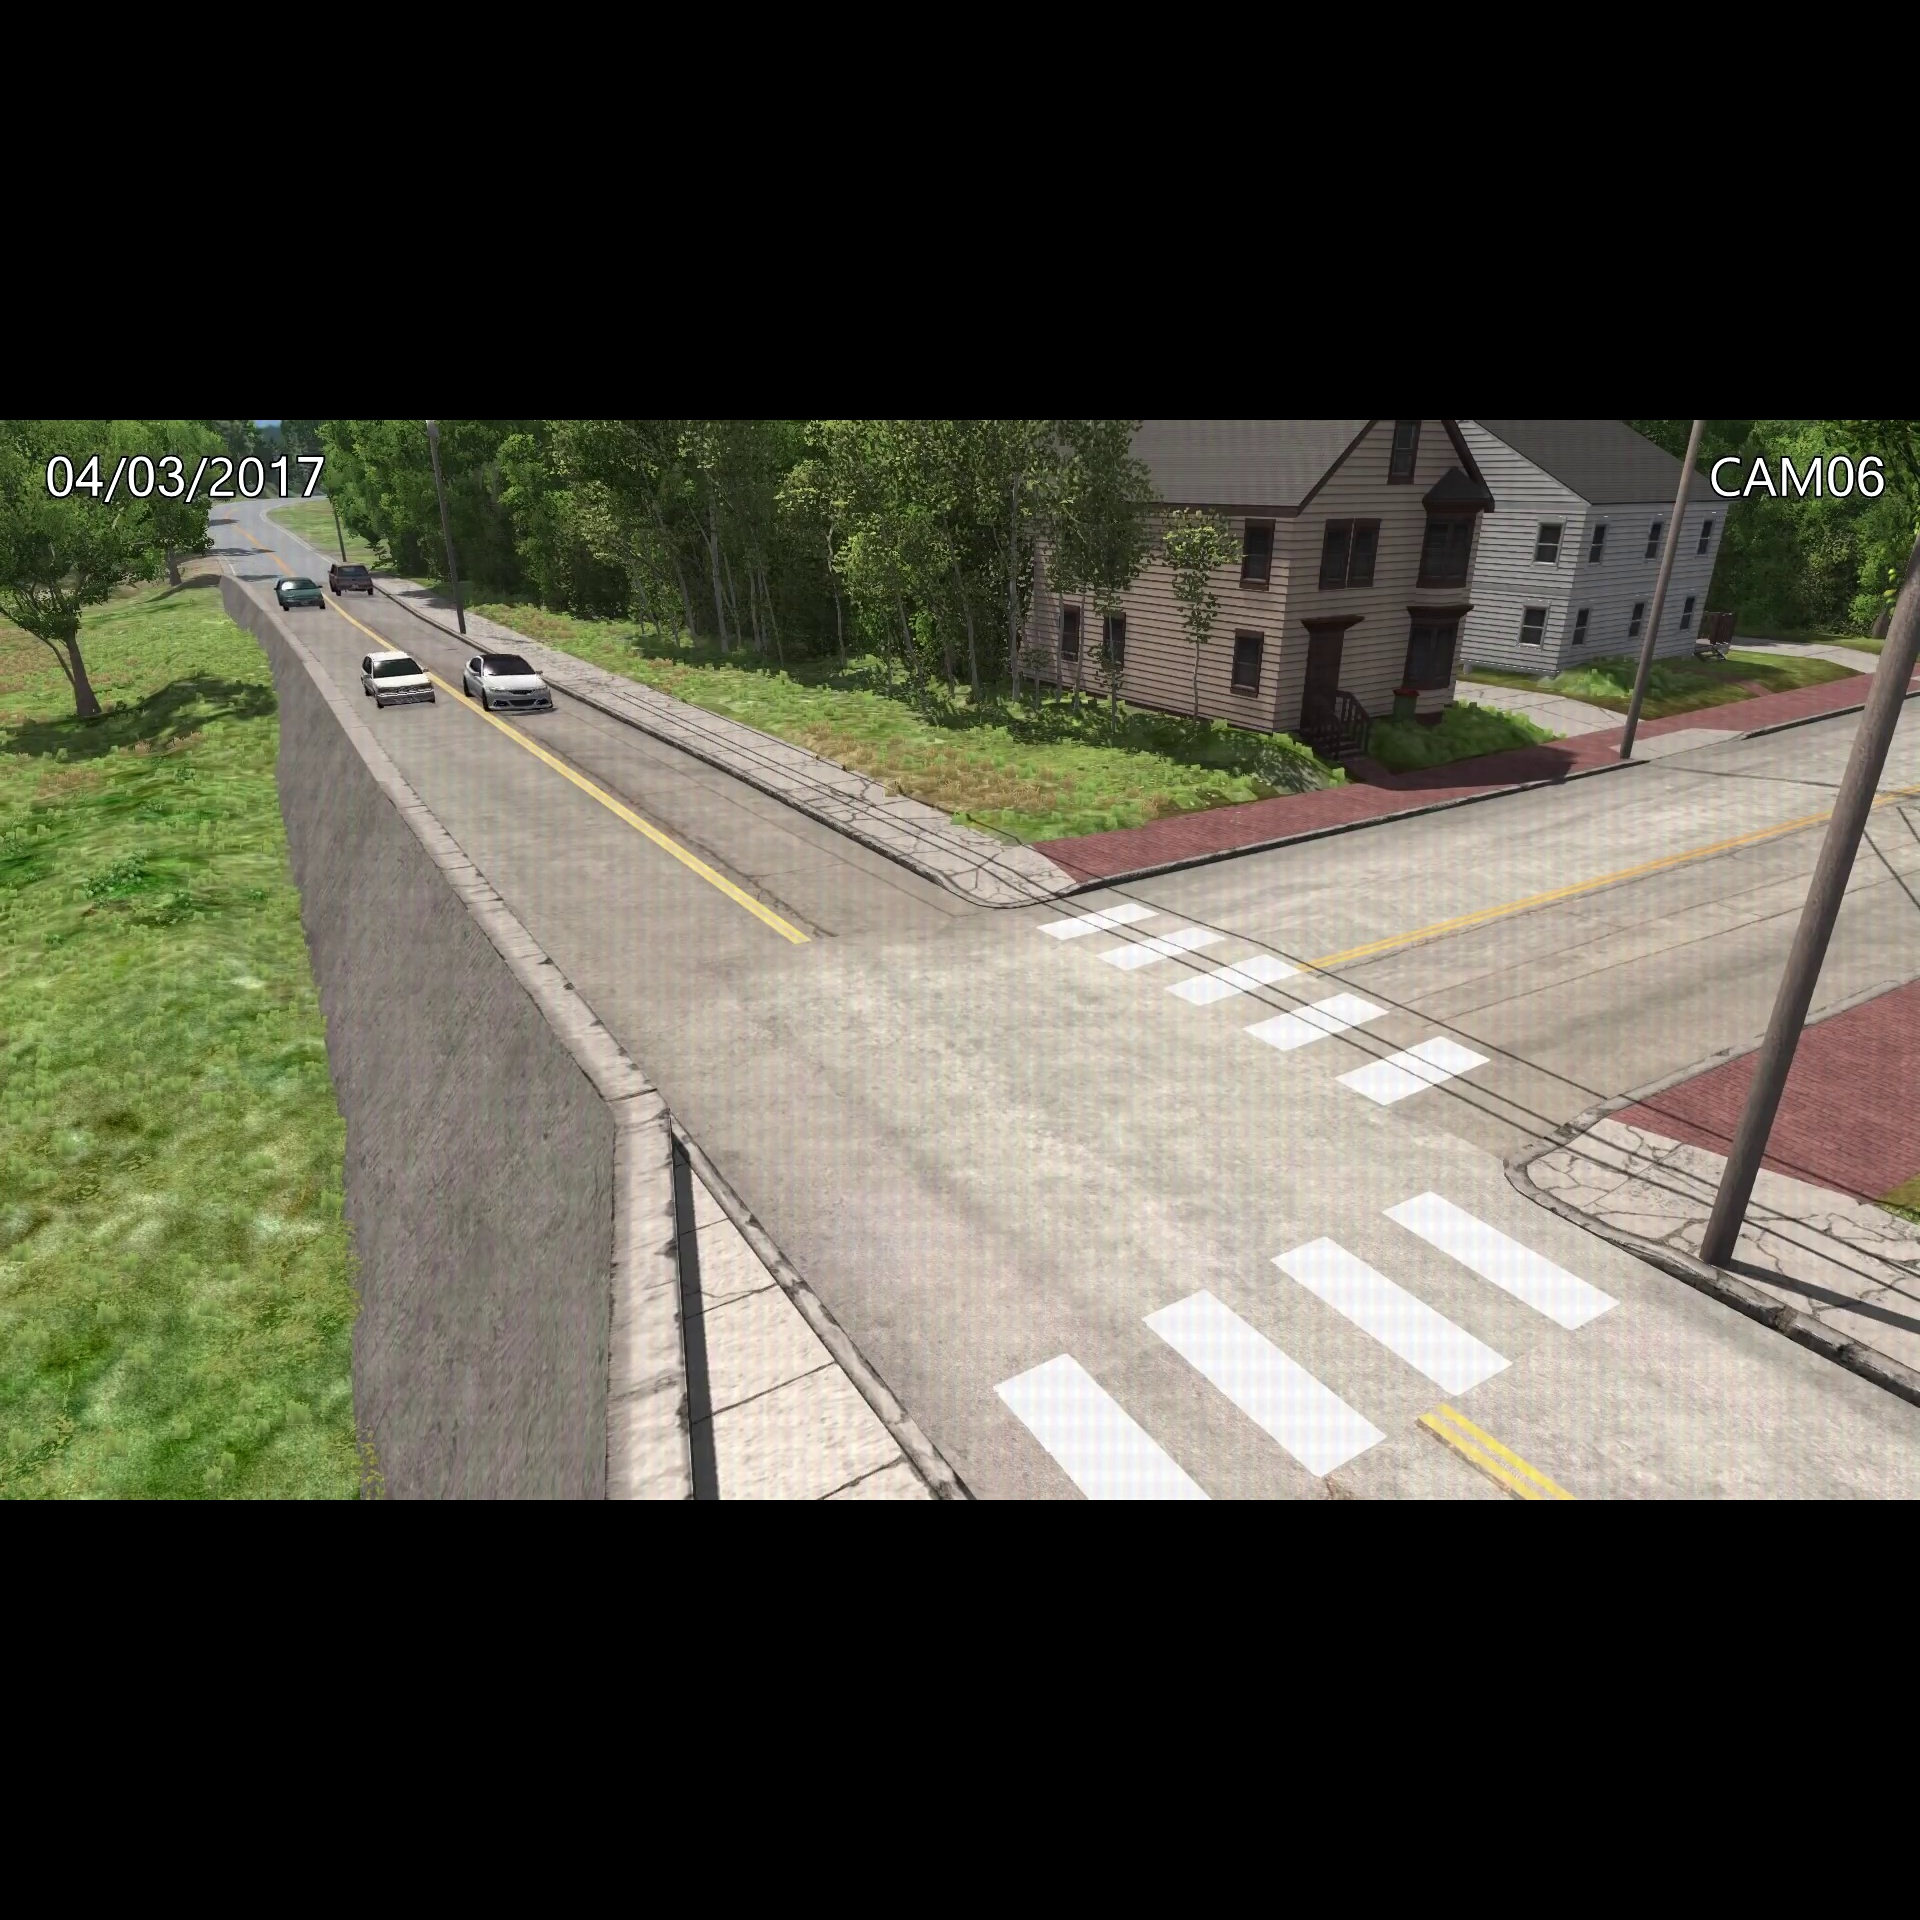vehicle: (454, 649, 557, 719), (353, 649, 445, 710), (273, 573, 329, 614), (322, 557, 378, 598)
